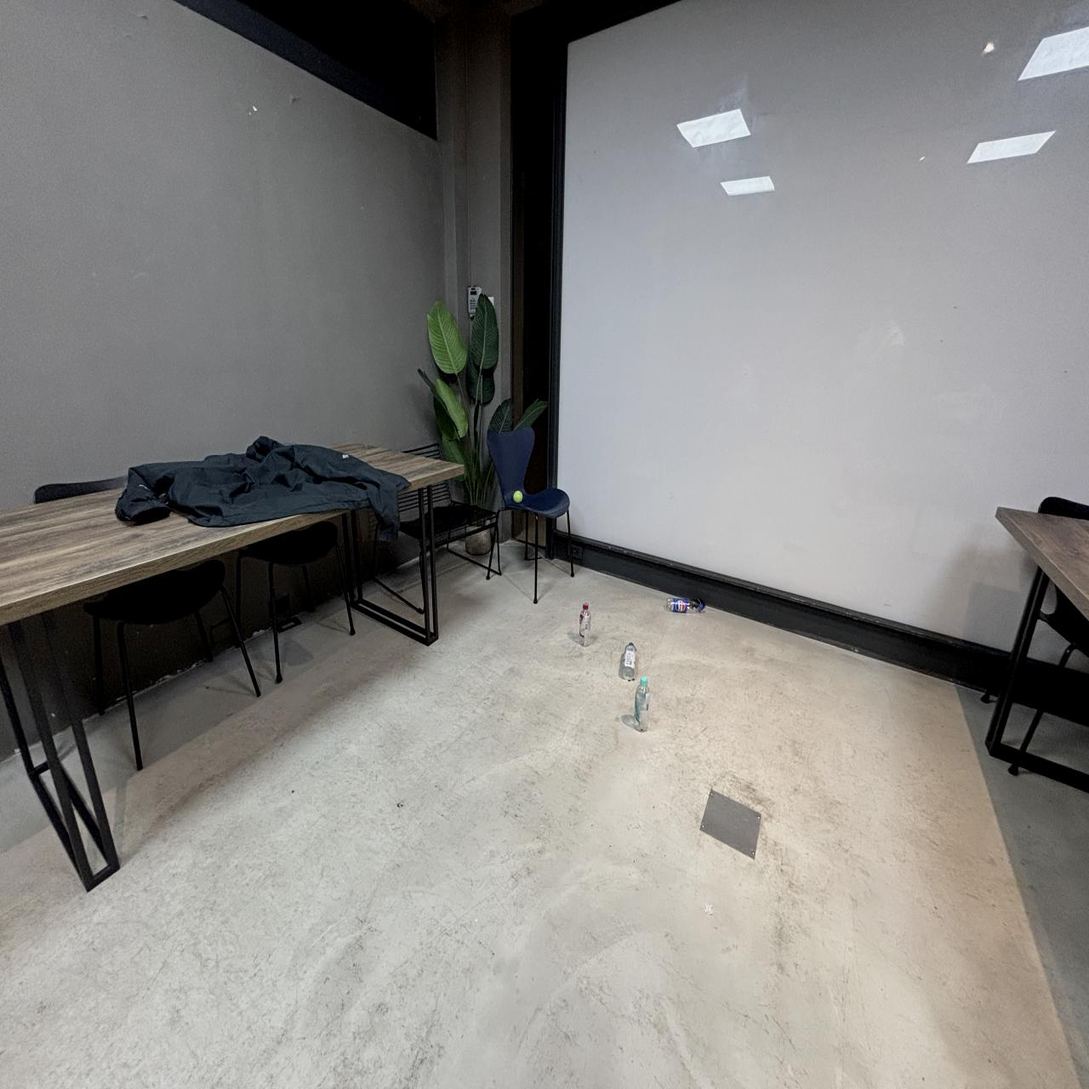plastic-bottle: (635, 676, 649, 732), (579, 603, 590, 647)
tennisball: (513, 491, 522, 503)
